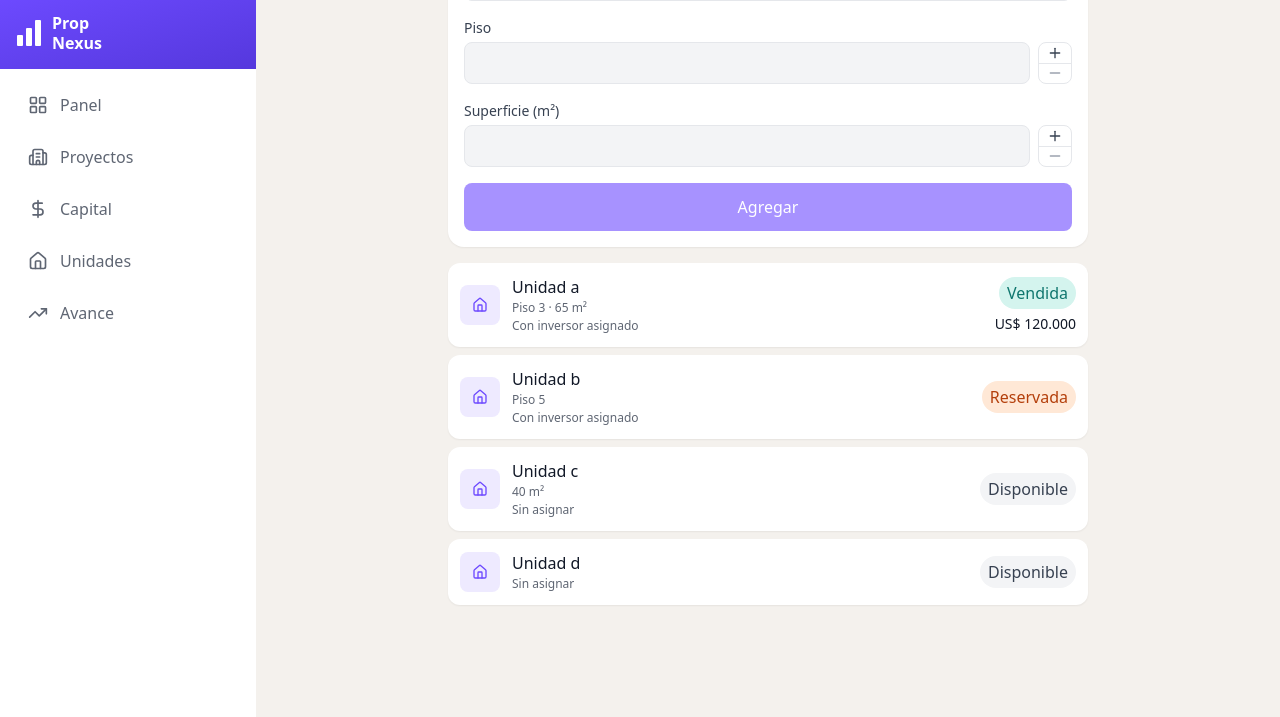
Test: /developer/project/$projectId/units › edición › una unidad sin piso ni superficie no se puede guardar hasta cargar alguno
The width and height of the screenshot is (1280, 717).
(page scrolled)
Click the button "Unidad d Sin asignar Disponible" at (480, 572), box x1=448 y1=539 x2=1088 y2=605
(page scrolled)
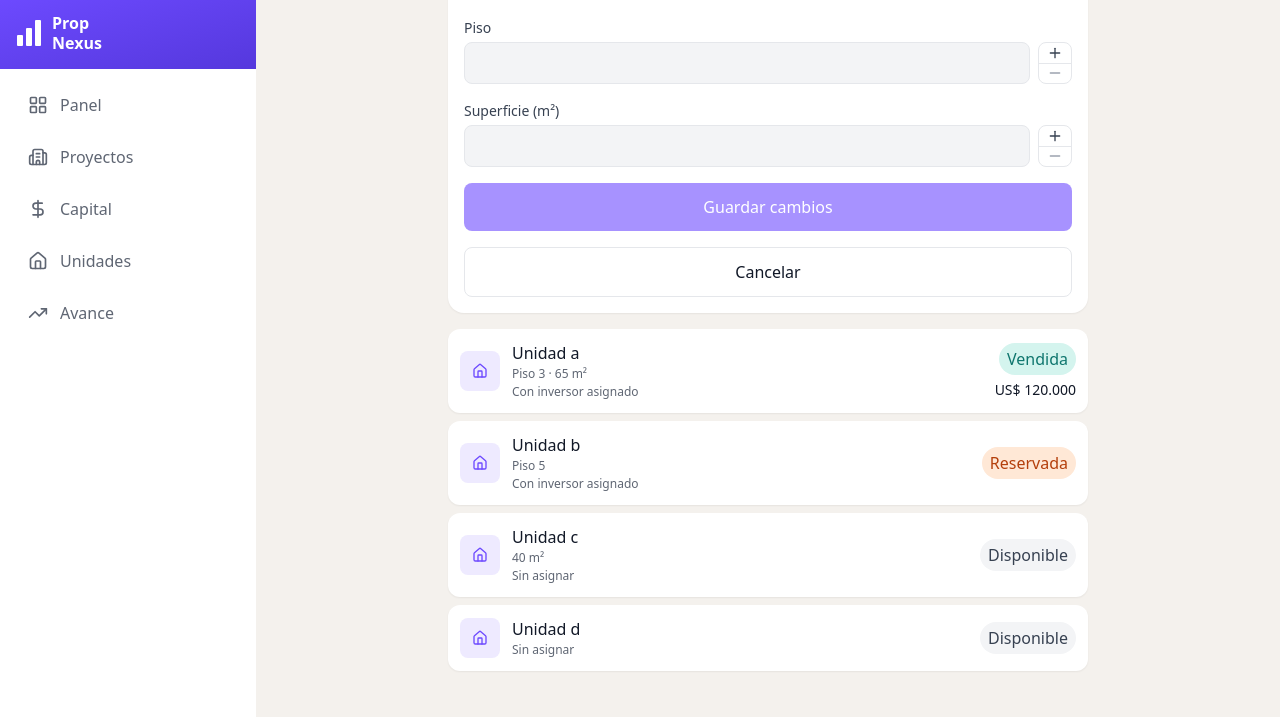
Expected: the button "Guardar cambios" is disabled, x1=464 y1=183 x2=1072 y2=231
Type "30" into the number field labelled "Superficie (m²)" at (747, 146), box x1=464 y1=125 x2=1030 y2=167
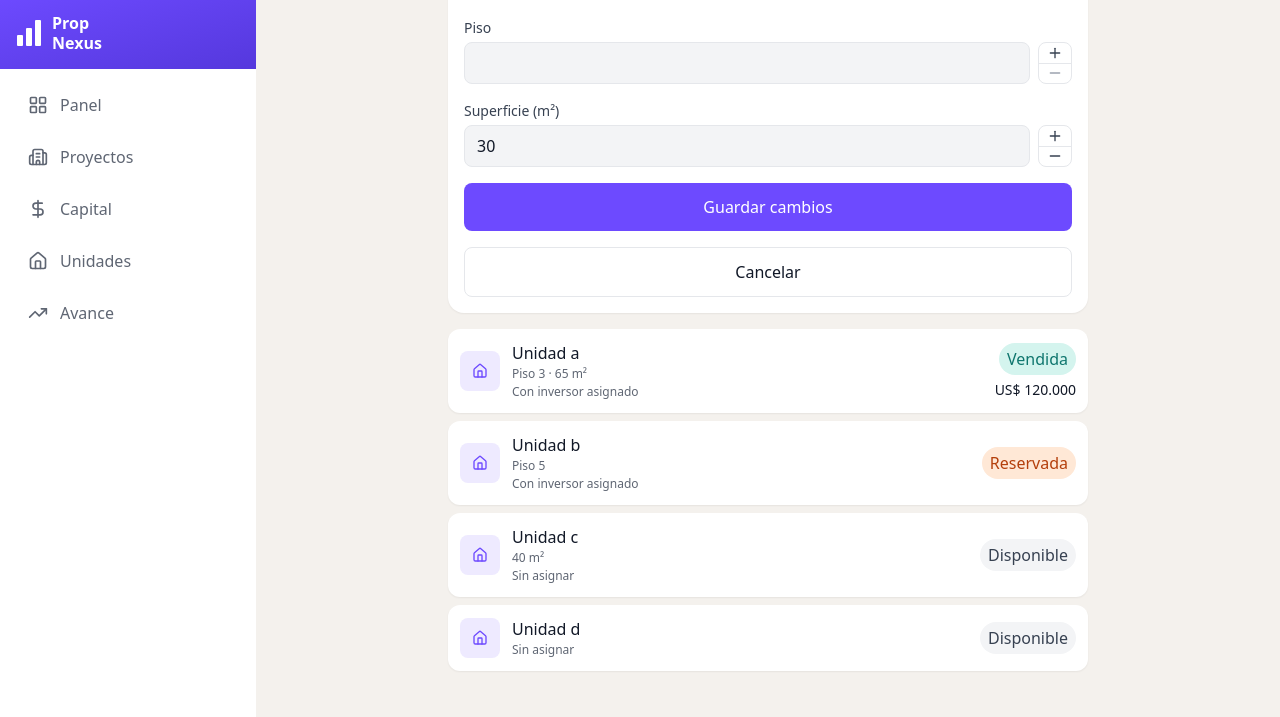
Expected: the button "Guardar cambios" is enabled, x1=464 y1=183 x2=1072 y2=231
